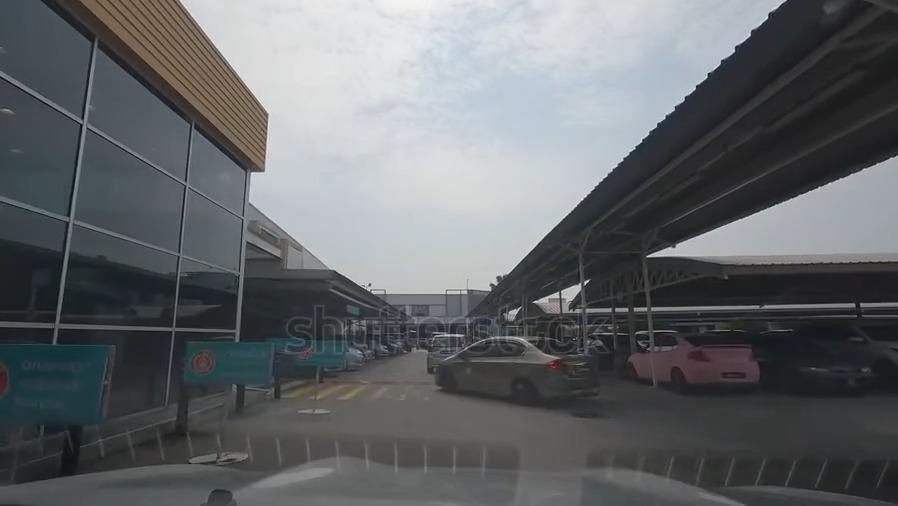car: (435, 343, 596, 398), (749, 334, 872, 394), (625, 339, 753, 386), (812, 322, 898, 361), (428, 332, 466, 370)
manhole: (568, 407, 614, 423)
pedestrian: (275, 388, 498, 405)
speedbump: (327, 375, 435, 387)
wheel: (509, 377, 536, 405), (437, 368, 455, 391)
